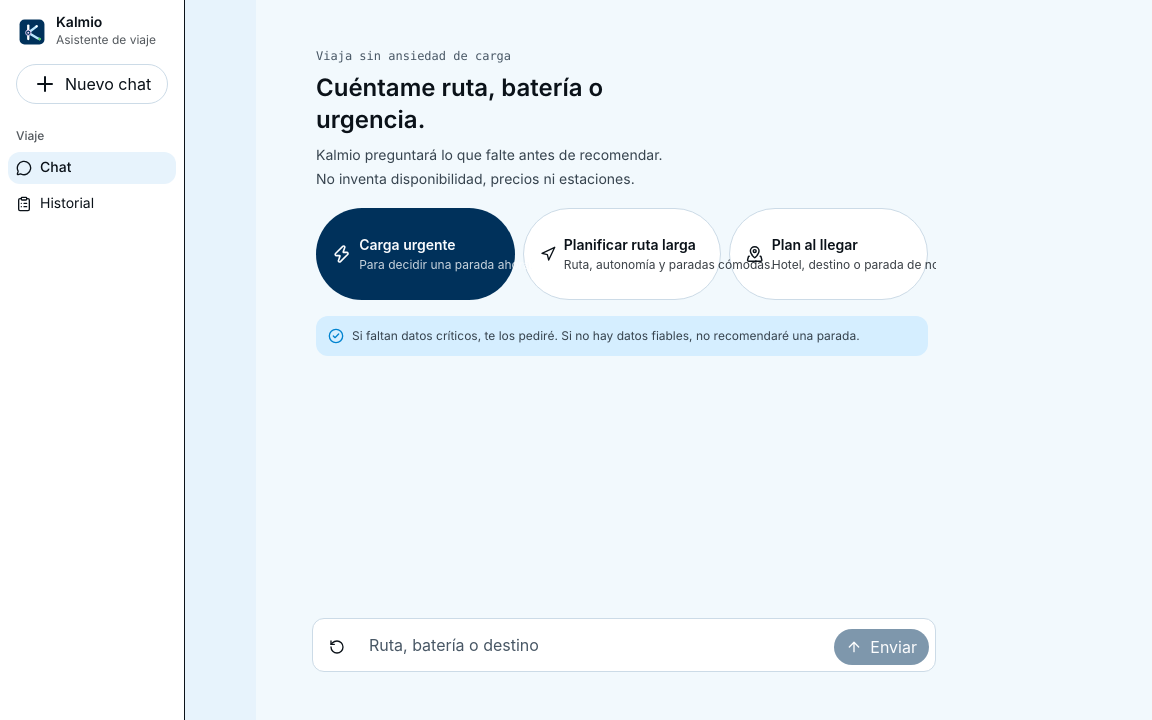
Scenario: App › starts the chat when users choose a guided prompt
Click the button "Plan al llegar Hotel, destino o parada de noche.": click(829, 254) [729,208,928,300]
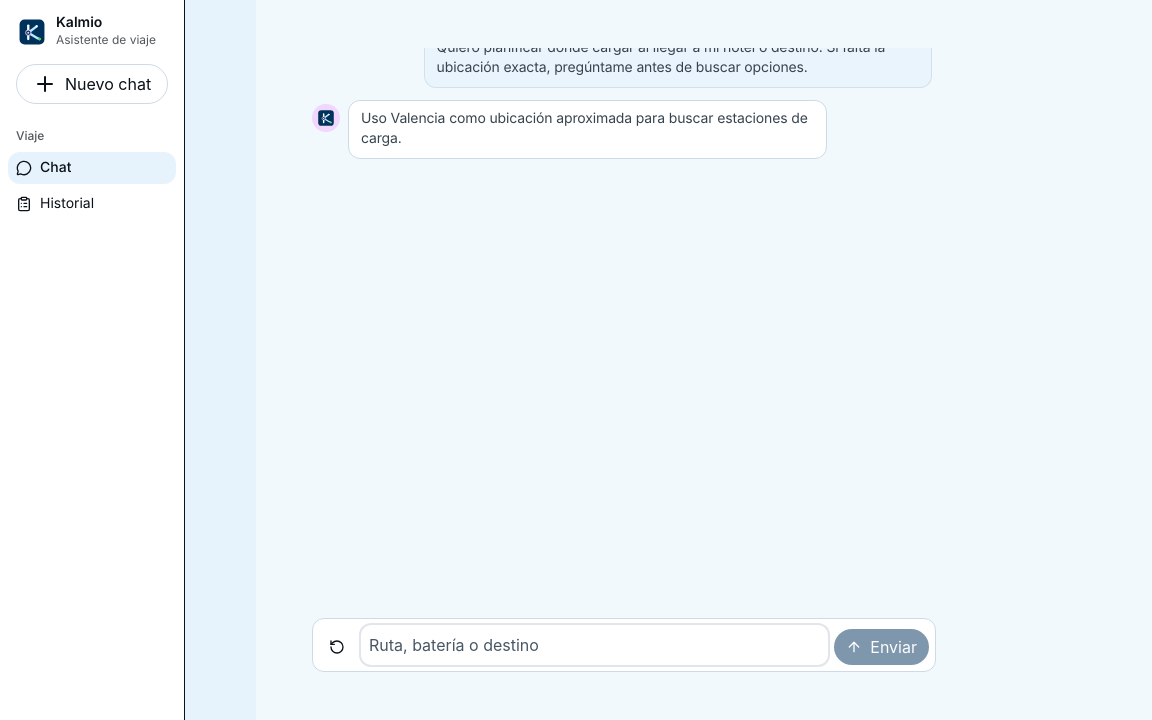
Now the text "Uso Valencia como ubicación aproximada" is shown, box [361,110,812,148]
